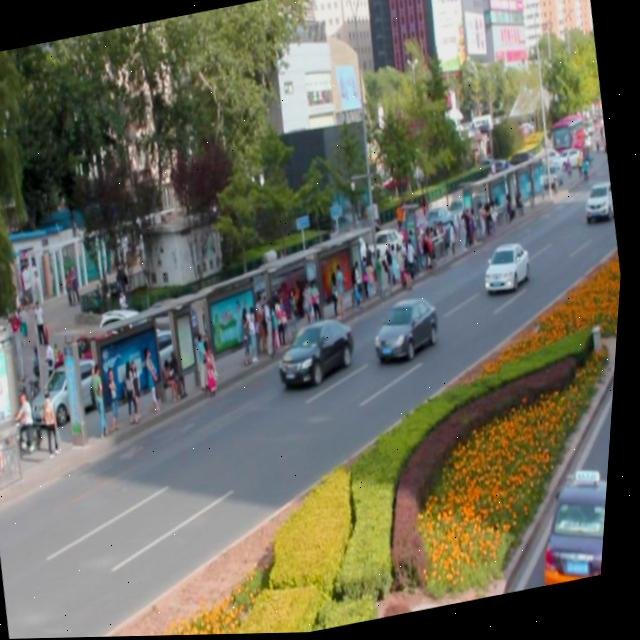car: (275, 312, 364, 390), (372, 293, 449, 364), (481, 239, 538, 297)
